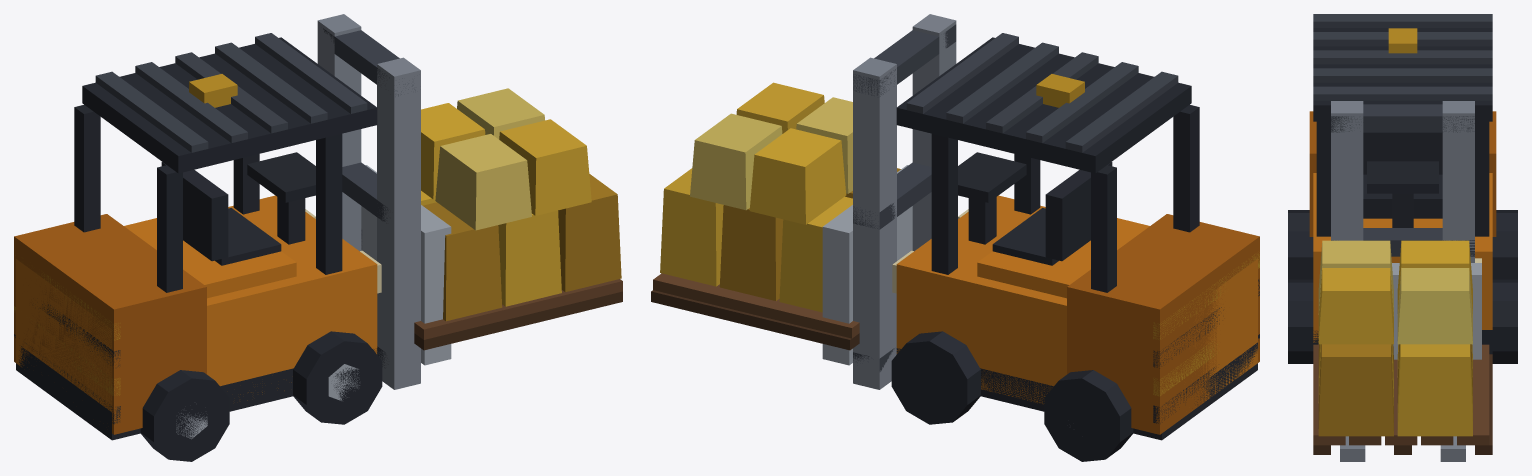
Rendered from Decor_GoldVault_Forklift.fbx.
3 views of the same model, side by side, from view 1: azimuth 30°, elevation 25°; view 2: azimuth 150°, elevation 25°; view 3: azimuth 270°, elevation 25° (orthographic). The views are drawn at different scales.
Parts seen in each view (by area): view 1: Forklift_Body; view 2: Forklift_Body; view 3: Forklift_Body.
Part boxes in pixels (x1,y1,x2,y2): Forklift_Body: [14, 14, 622, 461]; Forklift_Body: [651, 14, 1259, 461]; Forklift_Body: [1288, 14, 1517, 461].
Bounding box in the file's own units: 15.4 × 9 × 6.4.
